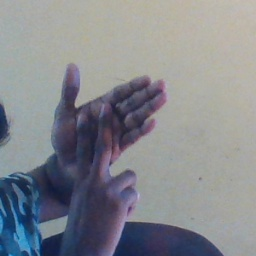N: (43, 57, 177, 230)
